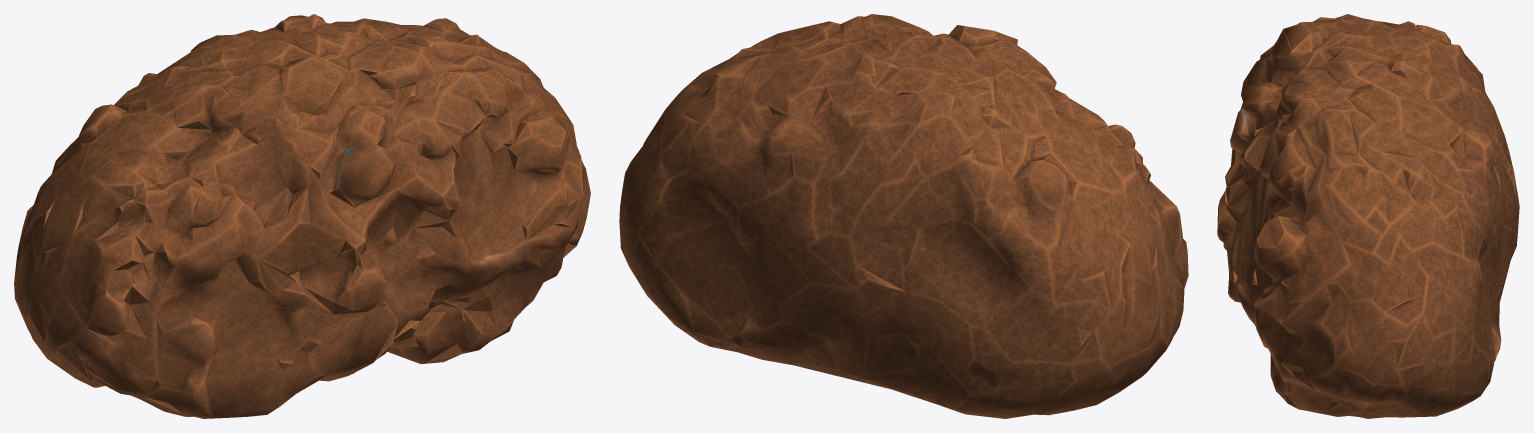
Rendered from Opal.fbx.
3 renders of one model, left to right at view 1: azimuth 30°, elevation 25°; view 2: azimuth 150°, elevation 25°; view 3: azimuth 270°, elevation 25°, orthographic. The views are drawn at different scales.
Parts seen in each view (by area): view 1: Mesh_0; view 2: Mesh_0; view 3: Mesh_0.
Boxes of the visible parts, box(x1,y1,x2,y2) form: Mesh_0: box(14, 14, 590, 418); Mesh_0: box(619, 14, 1188, 418); Mesh_0: box(1217, 14, 1519, 418).
Bounding box in the file's own units: 190 × 110 × 98.1.
1 material, 1 textured.
